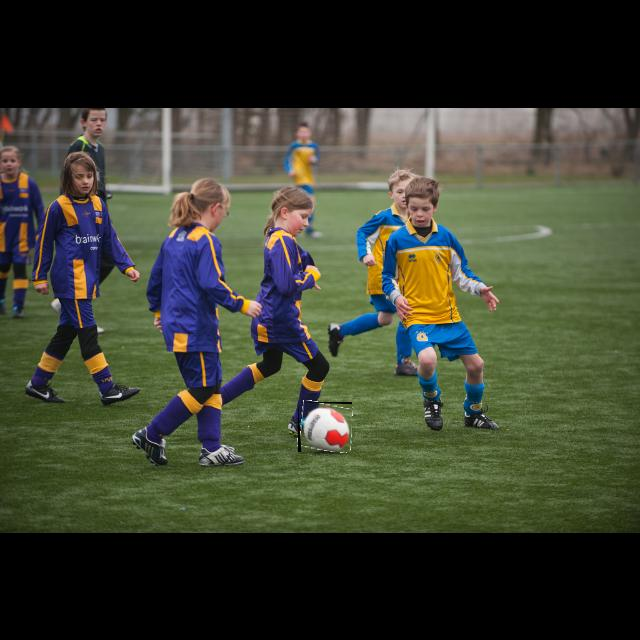Football: (298, 402, 352, 452)
